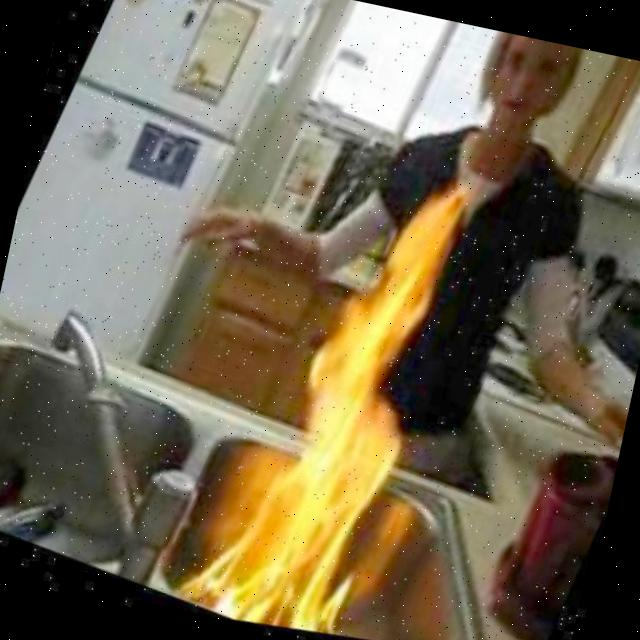fire: (178, 142, 515, 640)
